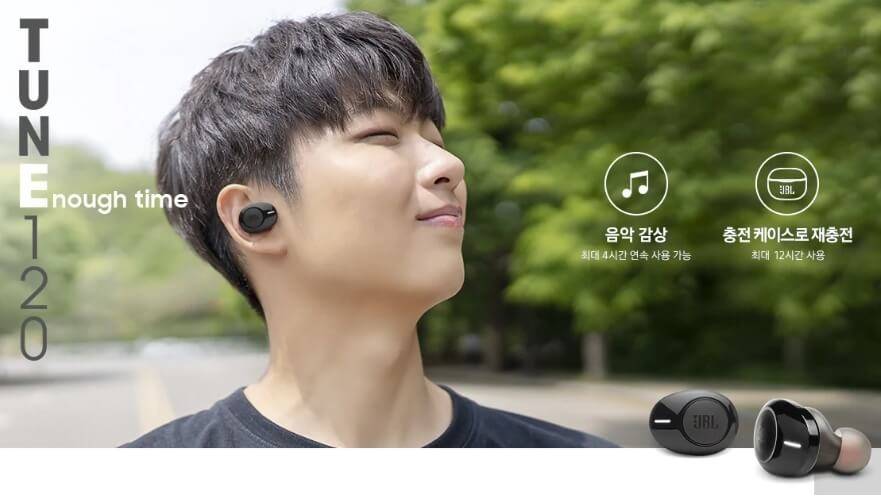earphone: (216, 184, 292, 255)
